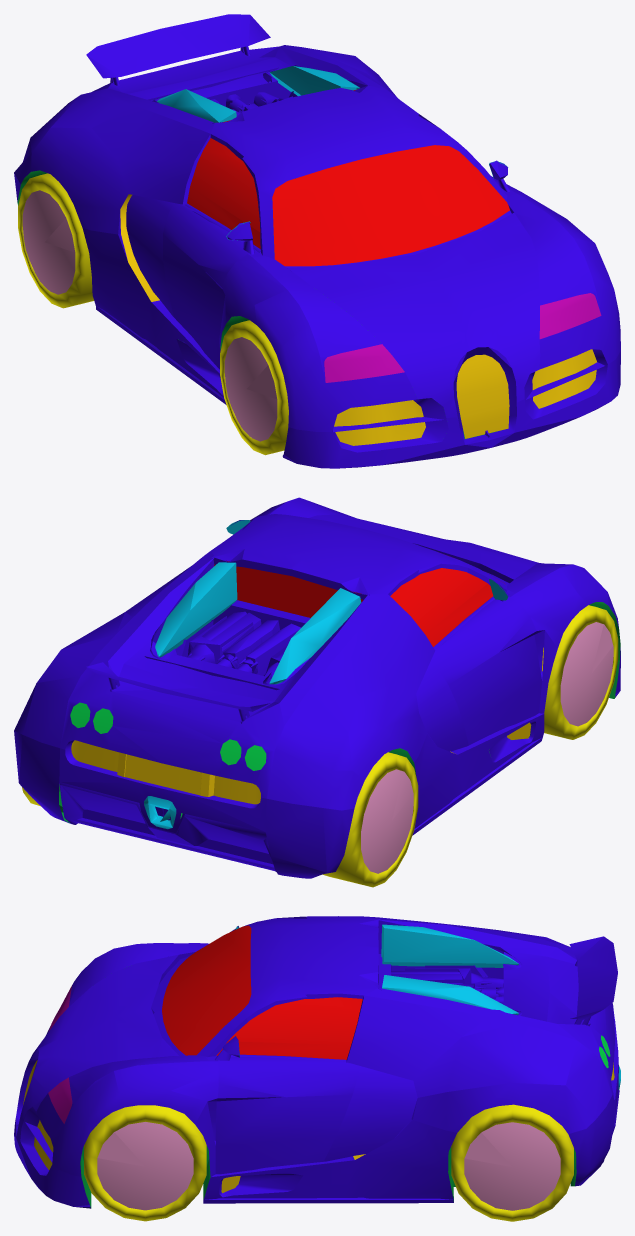
The model's file is Car08_Low_ColorCoded.fbx.
3 views of the same model, one above another, from view 1: azimuth 30°, elevation 25°; view 2: azimuth 150°, elevation 25°; view 3: azimuth 270°, elevation 25° (orthographic). The views are drawn at different scales.
Visible parts, largest first — view 1: carBody_low, tireBackR_low, tireFrontR_low; view 2: carBody_low, tireBackR_low, tireFrontR_low; view 3: carBody_low, tireFrontL_low, tireBackL_low.
Part boxes in pixels (<box>): carBody_low: <box>14,14,620,468</box>; tireBackR_low: <box>18,173,94,308</box>; tireFrontR_low: <box>220,320,288,455</box>; carBody_low: <box>14,497,620,878</box>; tireBackR_low: <box>322,752,418,887</box>; tireFrontR_low: <box>544,605,618,739</box>; carBody_low: <box>14,916,620,1208</box>; tireFrontL_low: <box>84,1105,206,1221</box>; tireBackL_low: <box>451,1104,573,1221</box>.
Bounding box in the file's own units: 66.67 × 111 × 40.77.
